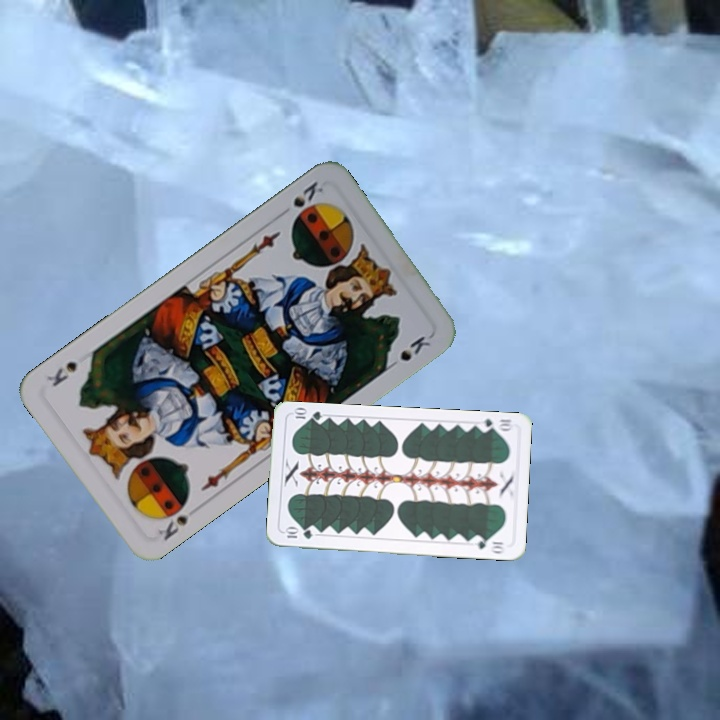G10: (475, 415, 516, 434), (281, 525, 315, 541)
SK: (153, 495, 202, 543), (289, 177, 326, 211)
